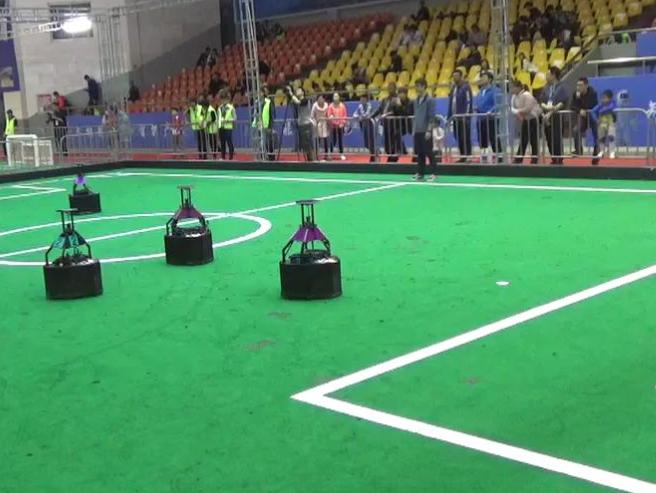robot: (275, 196, 344, 302), (39, 207, 109, 303), (159, 184, 220, 269), (64, 162, 103, 215)
